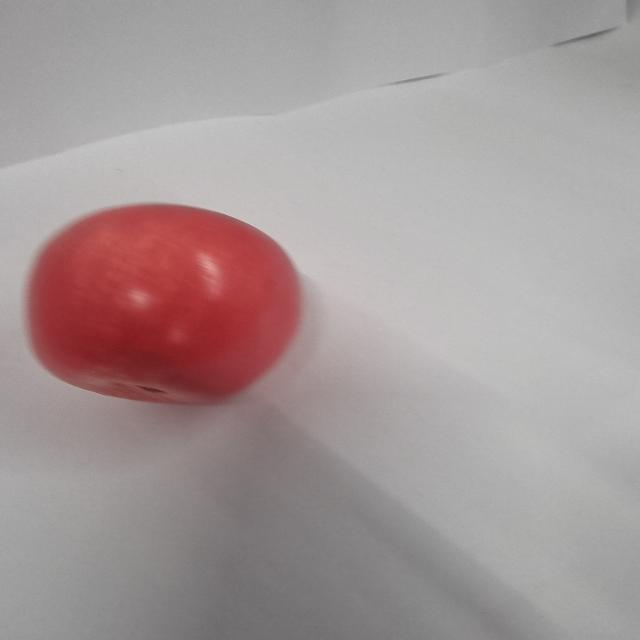apple: (28, 202, 300, 400)
